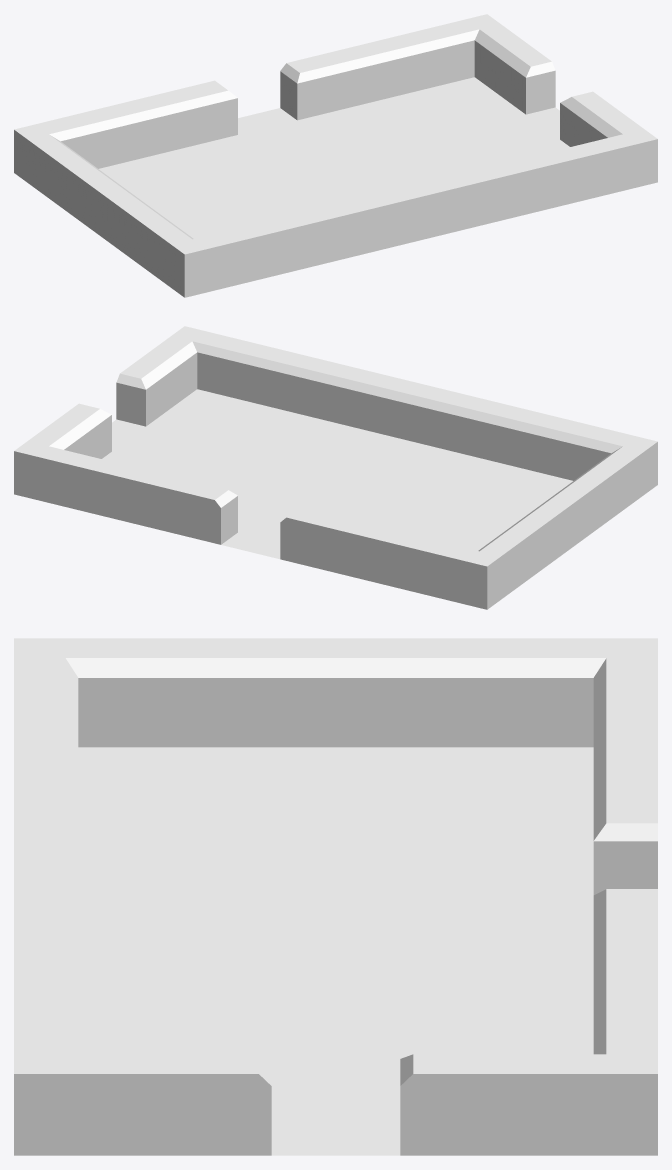
File: Room07.obj
3 views of the same model, one above another, from view 1: azimuth 30°, elevation 25°; view 2: azimuth 150°, elevation 25°; view 3: azimuth 270°, elevation 25° (orthographic). The views are drawn at different scales.
Visible parts, largest first — view 1: room_1x2; view 2: room_1x2; view 3: room_1x2.
Boxes of the visible parts, x1,y1,x2,y2 form: room_1x2: [14, 14, 657, 297]; room_1x2: [14, 326, 657, 609]; room_1x2: [14, 638, 657, 1155].
Size of what is drawn, in the model's own units: 80 by 7 by 50.
